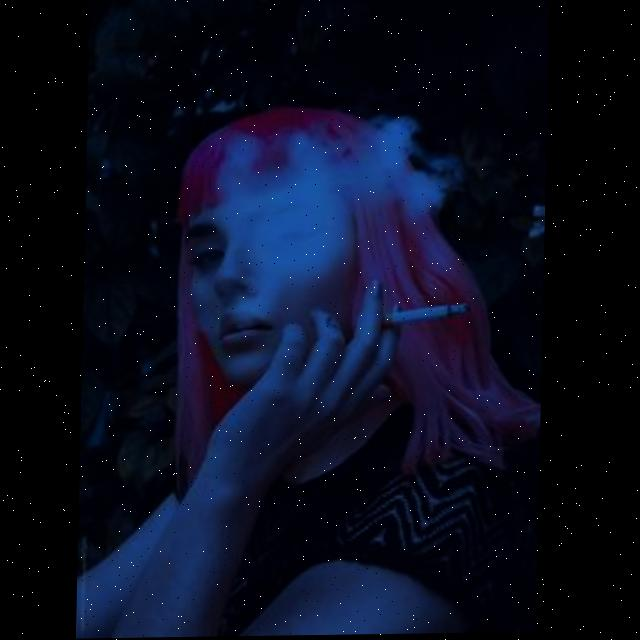cigarette: (381, 304, 474, 328)
